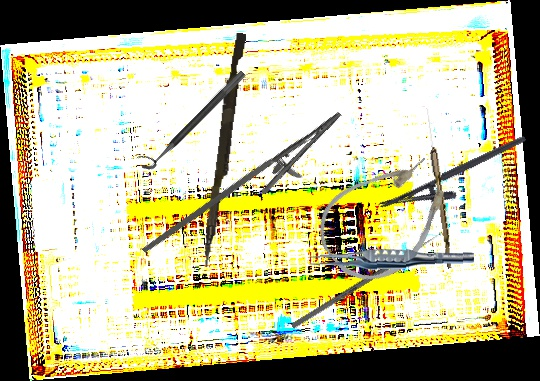Cannula: (303, 137, 470, 299)
Fixation Ring: (134, 61, 247, 175)
Needle Holder: (140, 88, 356, 290), (378, 134, 536, 229)
Pusher: (290, 230, 444, 330), (201, 31, 247, 269)
Surgical Spoon: (422, 107, 456, 269)
Tissue Forceps: (308, 245, 475, 273)
